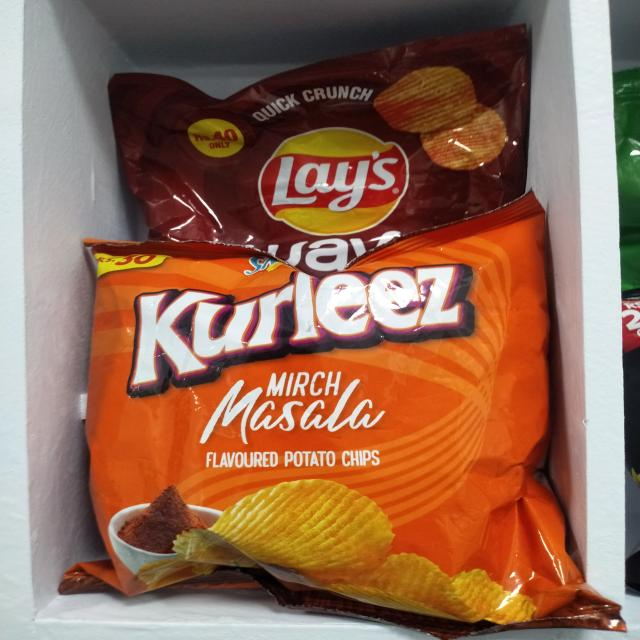Plastic: (84, 262, 586, 640), (111, 31, 519, 246)
